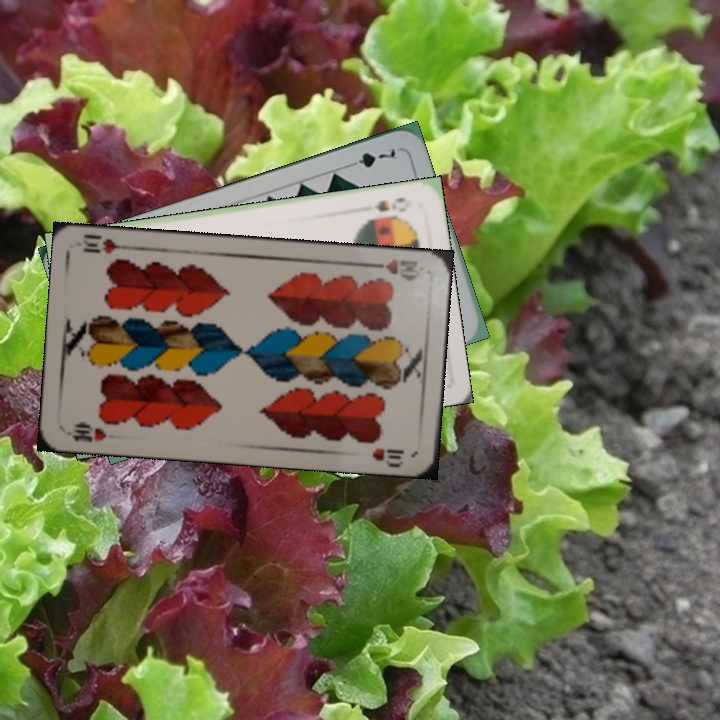G7: (342, 144, 398, 171)
H10: (366, 255, 426, 282), (68, 418, 109, 445)
SO: (359, 193, 408, 215)
